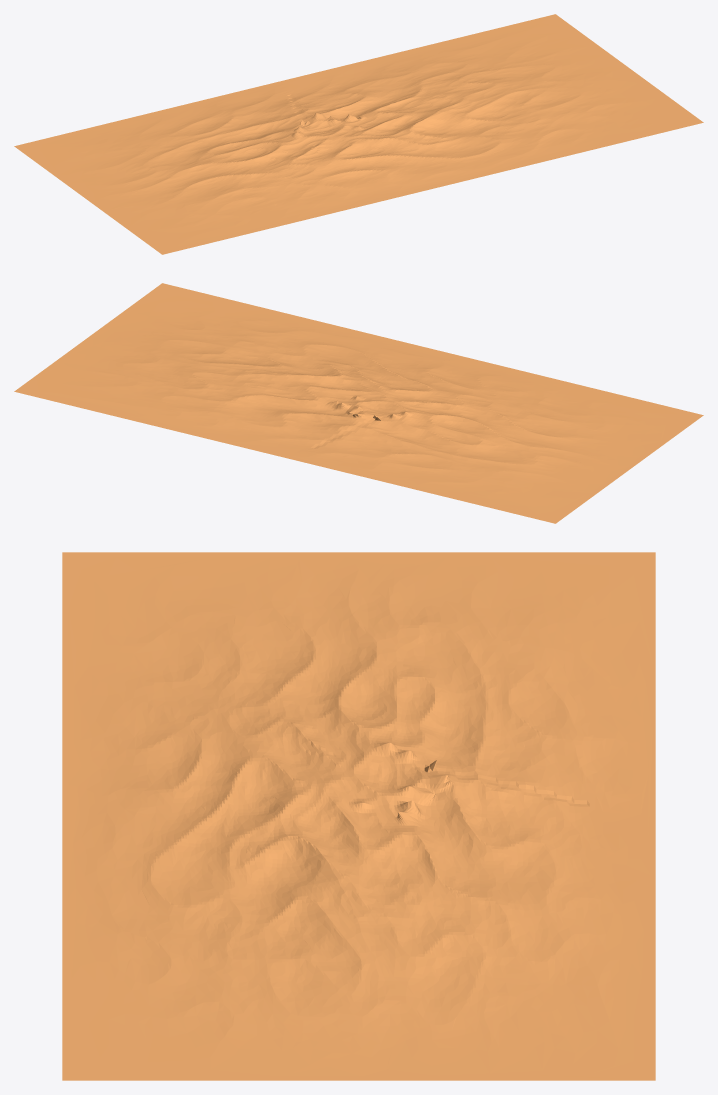
The model's file is Landschaft PLA_00008.fbx.
The picture shows the model from 3 angles, top to bottom: view 1: azimuth 30°, elevation 25°; view 2: azimuth 150°, elevation 25°; view 3: azimuth 270°, elevation 25°; orthographic projection. The views are drawn at different scales.
Parts seen in each view (by area): view 1: Landschaft_PLA; view 2: Landschaft_PLA; view 3: Landschaft_PLA.
Boxes of the visible parts, x1,y1,x2,y2 form: Landschaft_PLA: (14,14,703,254); Landschaft_PLA: (14,283,703,523); Landschaft_PLA: (62,552,655,1080).
Bounding box in the file's own units: 79547 × 1473 × 37735.
